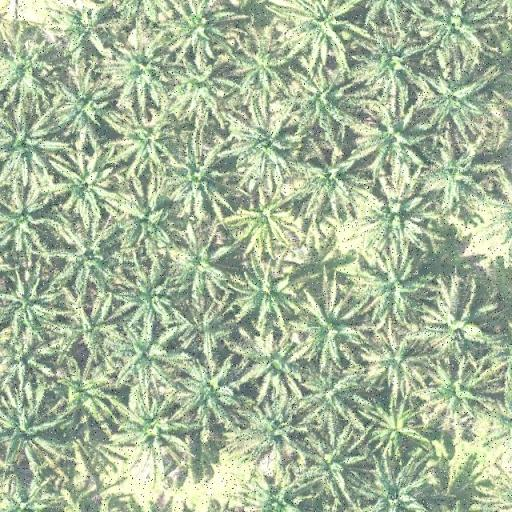Ganoderma: (239, 198, 286, 244)
